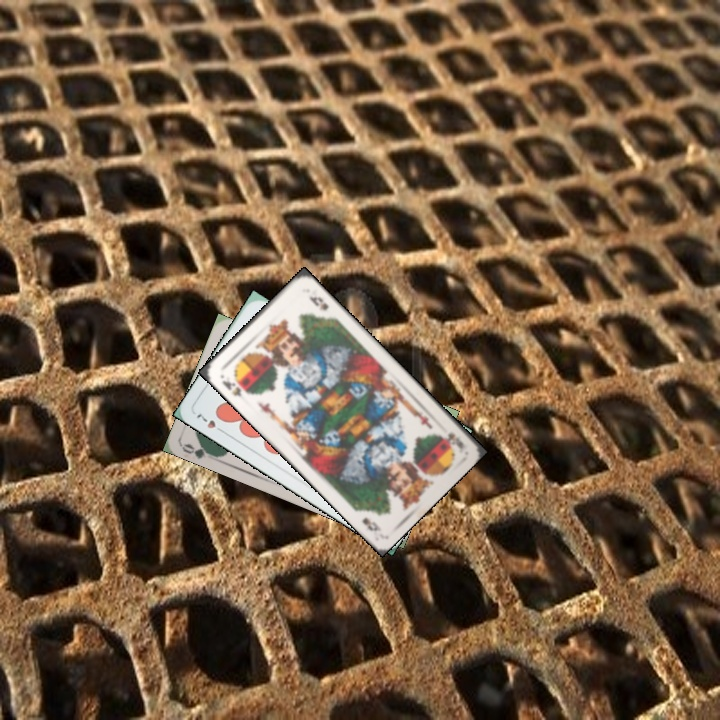GO: (179, 439, 219, 461)
H7: (192, 410, 228, 436)
SK: (216, 371, 252, 400), (440, 428, 467, 451)
